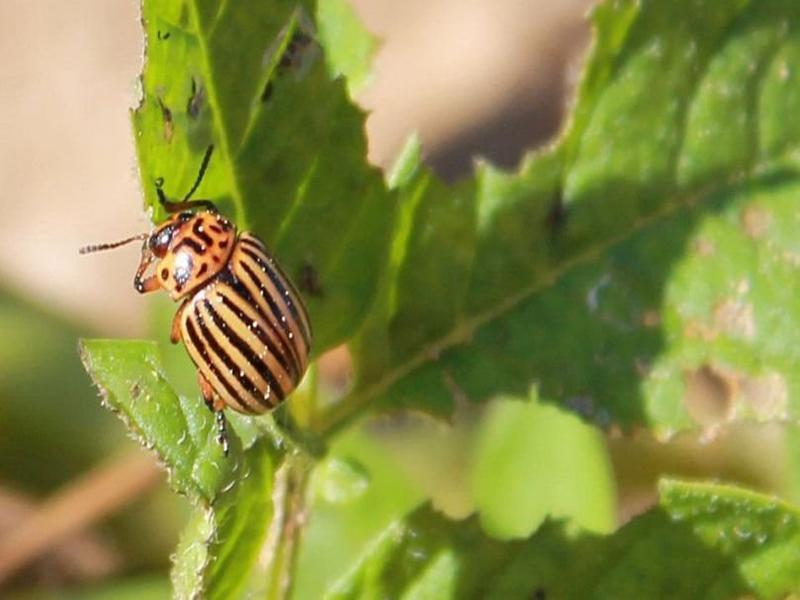hrosc: (122, 178, 322, 422)
